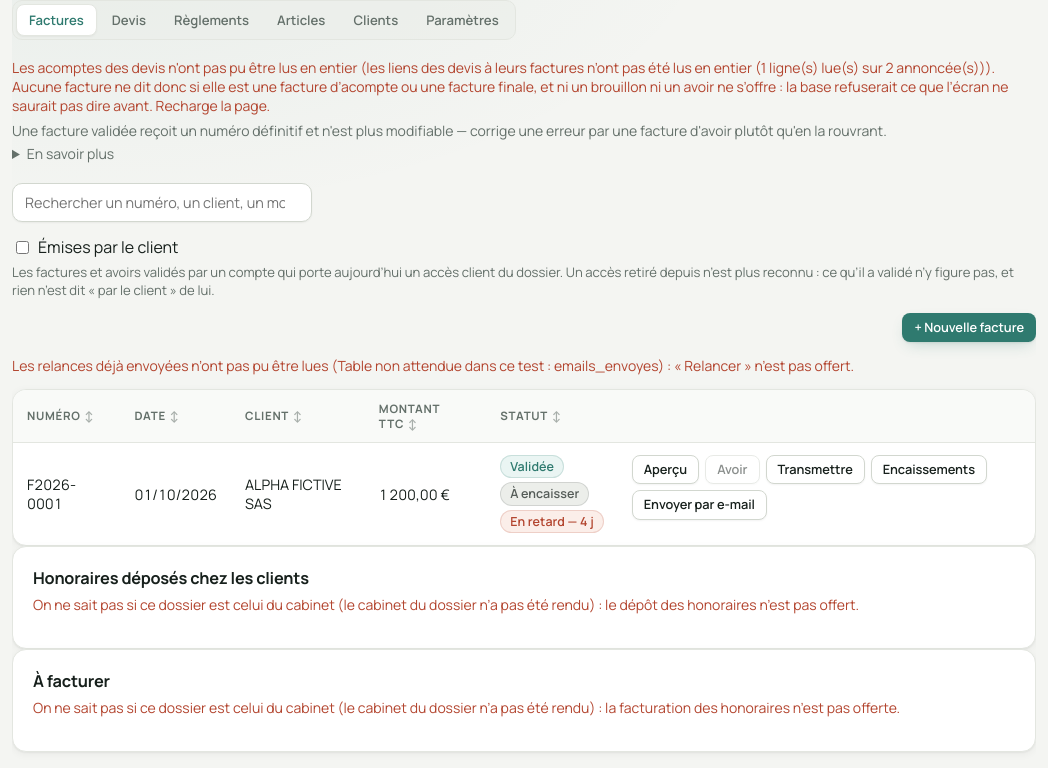
Test case: Devis dans l’onglet Factures — cabinet › lue en partie : le bandeau, et aucun geste — ni nouveau devis, ni modifier, ni supprimer
Check: the text "F2026-0001" is shown, box [27, 475, 76, 513]
Click the tab "Devis": (129, 20) [99, 4, 159, 36]
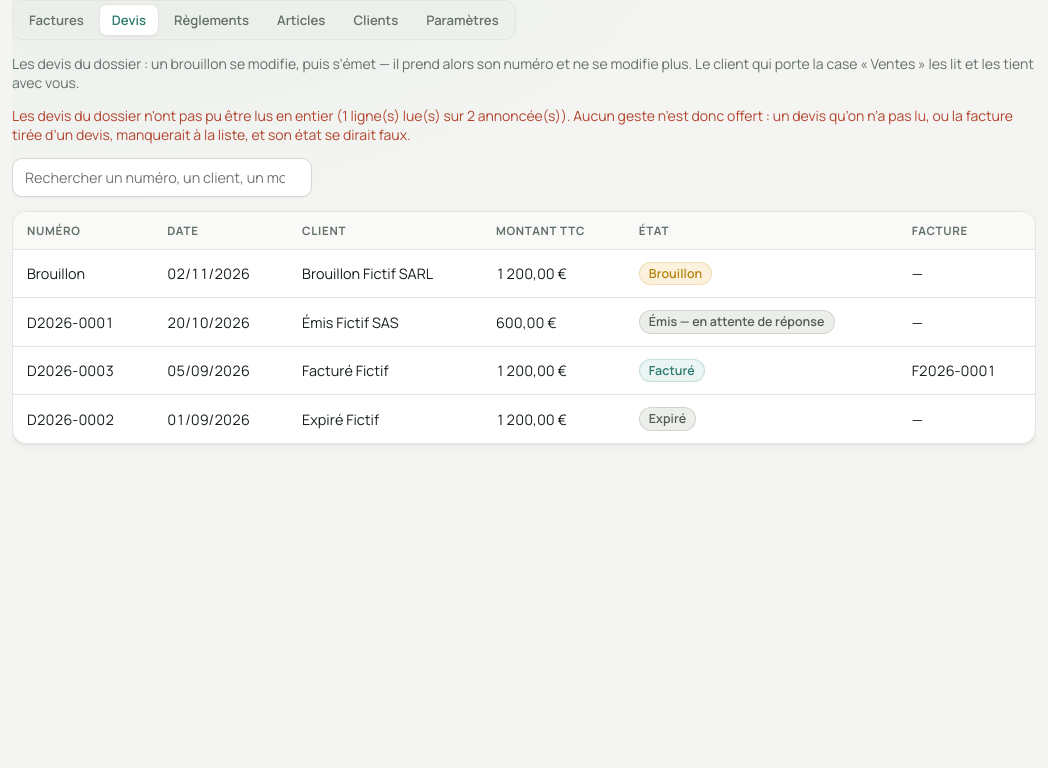
Check: the table named "Devis" is shown, box [13, 212, 1035, 443]
Check: the text "Aucun geste n’est donc offert" is shown, box [12, 106, 1013, 144]
